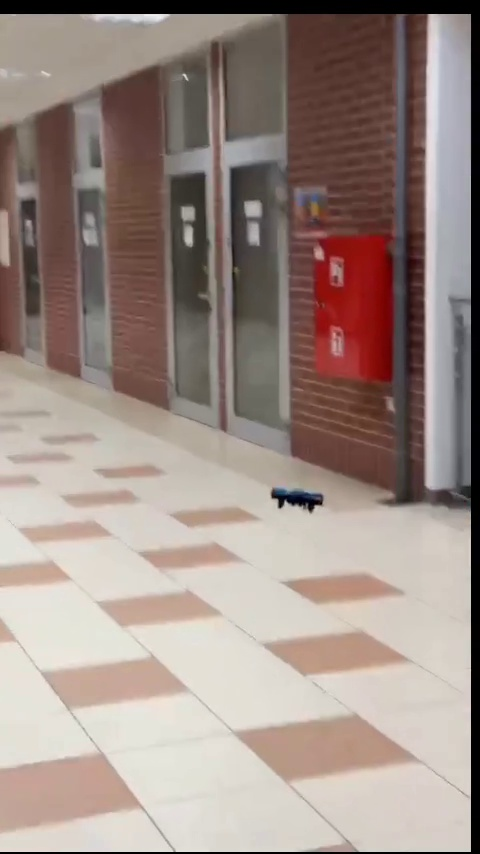drone: (268, 487, 331, 515)
